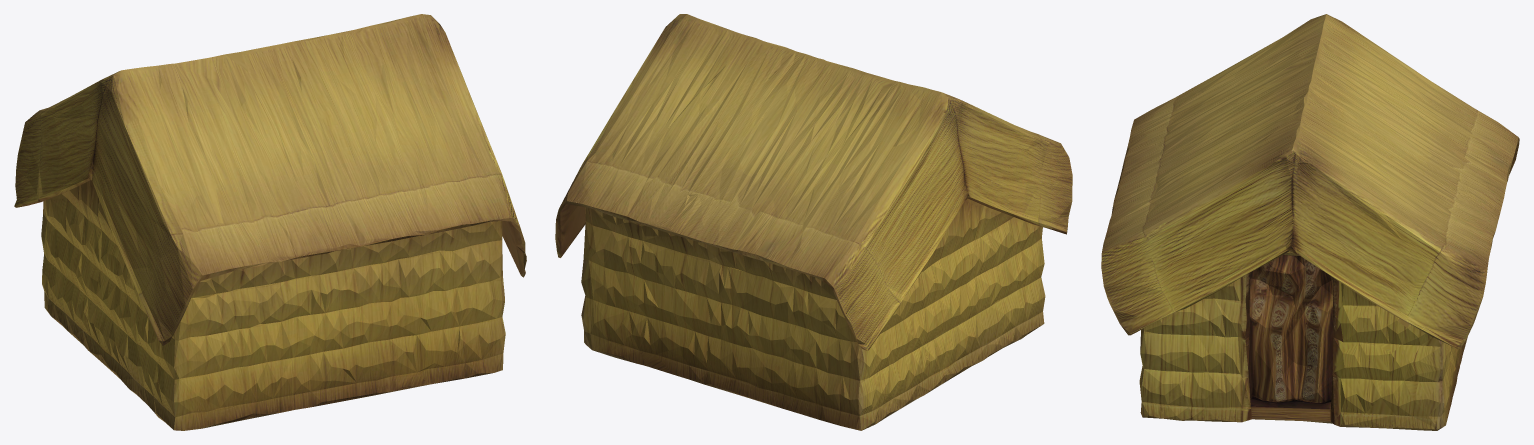
Rendered from casa1_totora.glb.
3 renders of one model, left to right at view 1: azimuth 30°, elevation 25°; view 2: azimuth 150°, elevation 25°; view 3: azimuth 270°, elevation 25°, orthographic. The views are drawn at different scales.
Visible parts, largest first — view 1: material.005; view 2: material.005; view 3: material.005.
Part boxes in pixels (x1,y1,x2,y2): material.005: (14,14,526,430); material.005: (555,14,1072,430); material.005: (1101,14,1519,430).
Bounding box in the file's own units: 4.53 × 3.41 × 4.69.
1 material, 1 textured.
